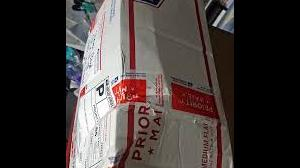damage_box: (66, 0, 231, 168)
